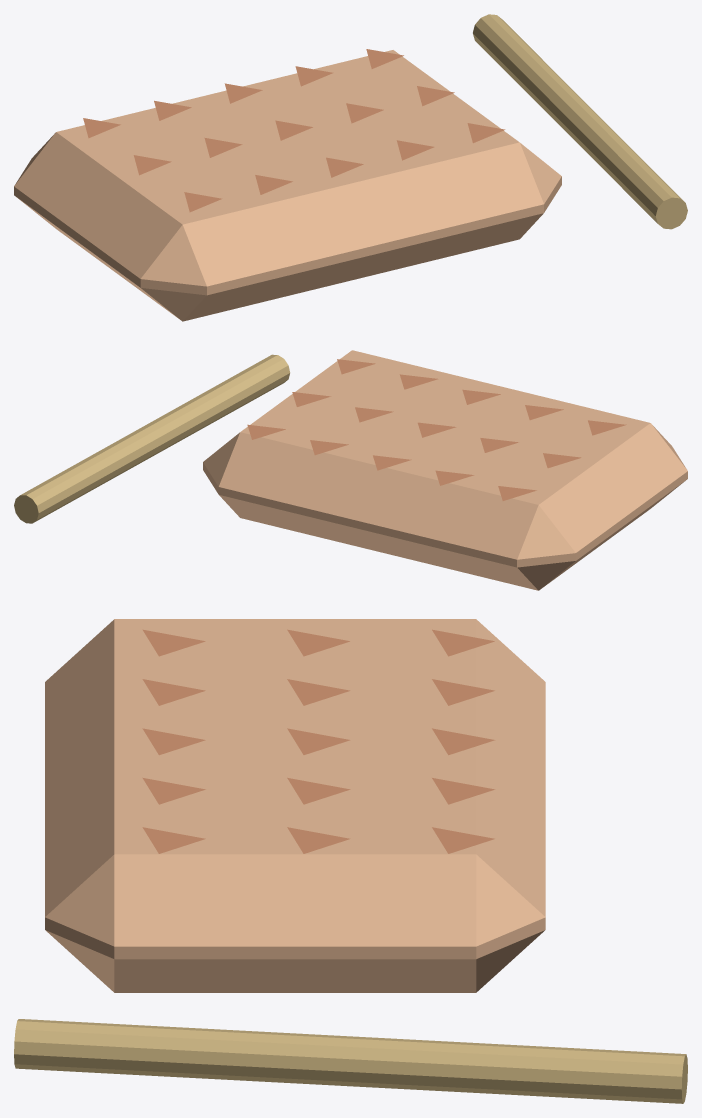
3 views of the same model, one above another, from view 1: azimuth 30°, elevation 25°; view 2: azimuth 150°, elevation 25°; view 3: azimuth 270°, elevation 25° (orthographic). The views are drawn at different scales.
Parts seen in each view (by area): view 1: BA-0038 batched; view 2: BA-0038 batched; view 3: BA-0038 batched.
Part boxes in pixels (<box>): BA-0038 batched: <box>14,14,687,321</box>; BA-0038 batched: <box>14,350,687,590</box>; BA-0038 batched: <box>14,619,687,1103</box>.
Size of the model in its own units: 0.3339 by 0.0555 by 0.2422.
